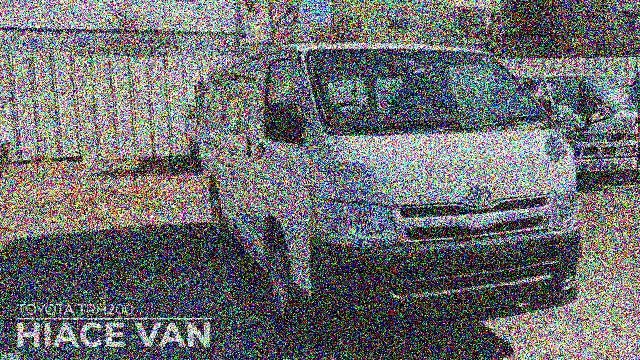van: (192, 46, 581, 326)
